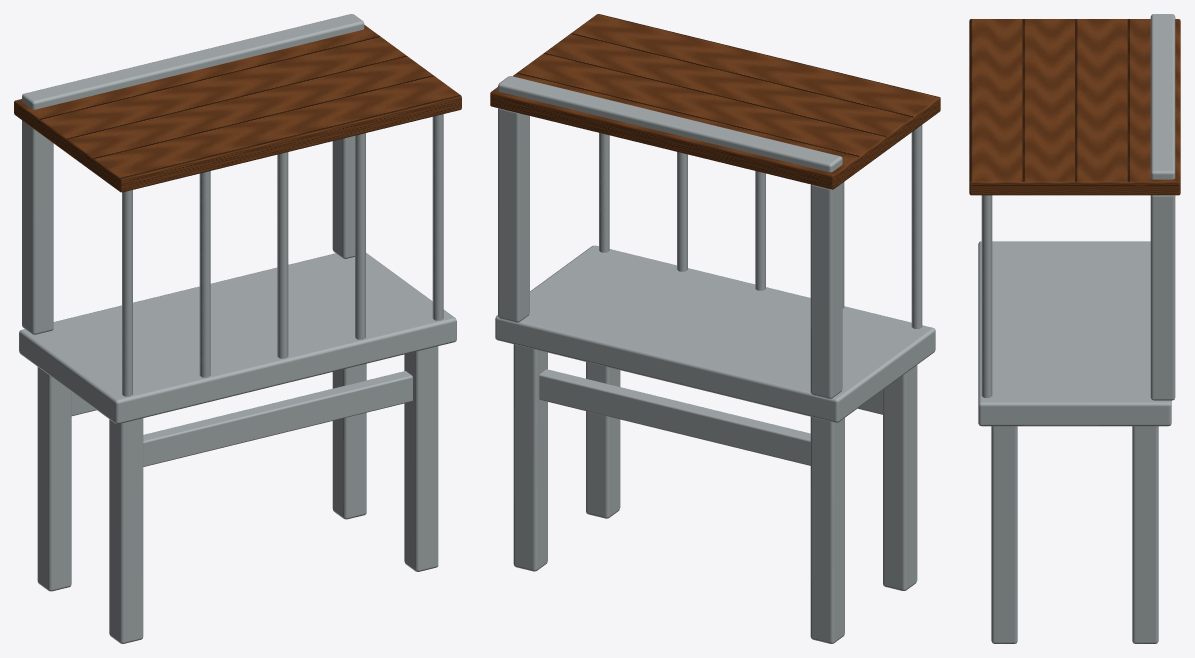
3 renders of one model, left to right at view 1: azimuth 30°, elevation 25°; view 2: azimuth 150°, elevation 25°; view 3: azimuth 270°, elevation 25°, orthographic. The views are drawn at different scales.
Visible parts, largest first — view 1: secure-glassless-case; view 2: secure-glassless-case; view 3: secure-glassless-case.
Part boxes in pixels (<box>): secure-glassless-case: <box>14,14,461,643</box>; secure-glassless-case: <box>490,14,940,643</box>; secure-glassless-case: <box>969,14,1180,643</box>.
Bounding box in the file's own units: 1.1 × 1.49 × 0.6.
2 materials, 1 textured.
